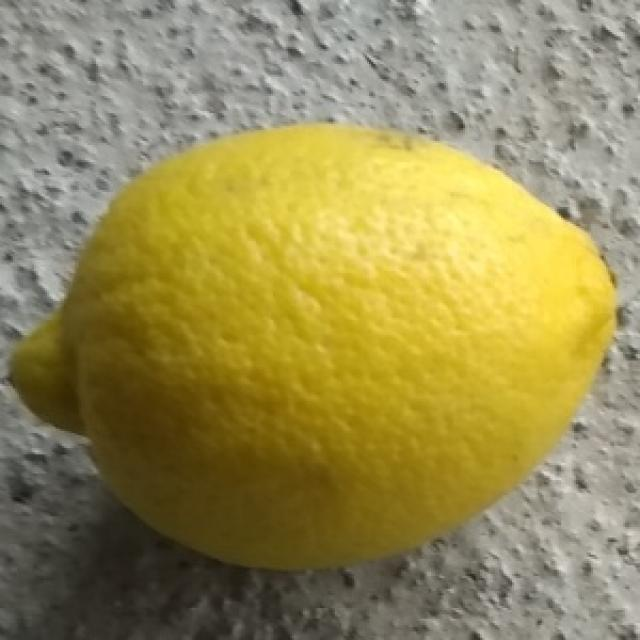Ripe: (7, 119, 622, 573)
